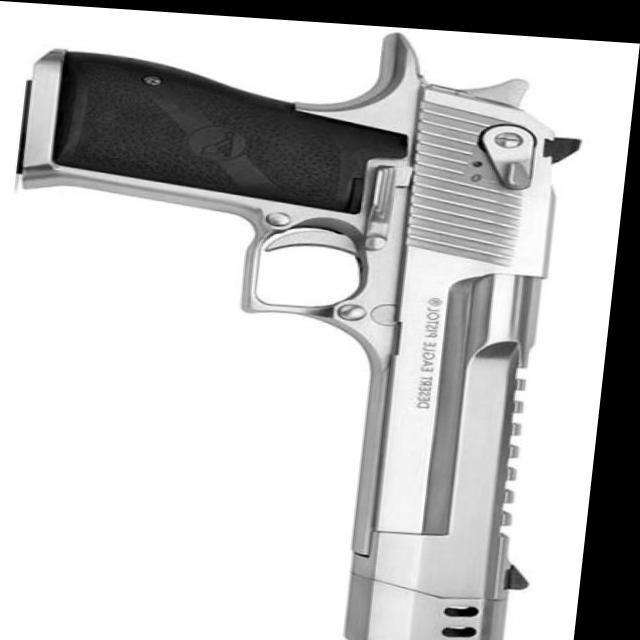handgun: (0, 4, 601, 640)
